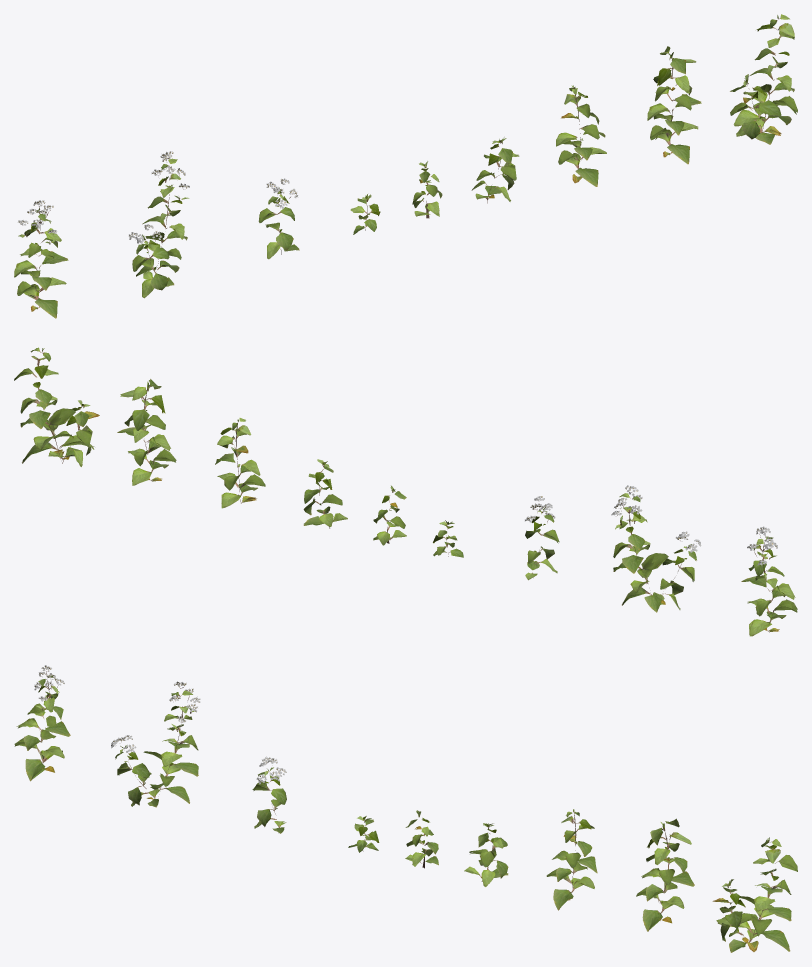
Rendered from understory.glb.
3 renders of one model, top to bottom at view 1: azimuth 30°, elevation 25°; view 2: azimuth 150°, elevation 25°; view 3: azimuth 330°, elevation 25°, orthographic. The views are drawn at different scales.
Visible parts, largest first — view 1: LOD0_0, LOD1_0; view 2: LOD0_0, LOD1_0; view 3: LOD0_0, LOD1_0.
Part boxes in pixels (box(x1,y1,x2,y2)): LOD0_0: box(14, 14, 797, 318); LOD1_0: box(14, 16, 796, 317); LOD0_0: box(14, 347, 797, 636); LOD1_0: box(14, 350, 797, 636); LOD0_0: box(14, 665, 797, 952); LOD1_0: box(14, 672, 797, 951).
Size of the model in its own units: 11.78 by 1.82 by 1.
Materials: 1 (1 with a texture image).
